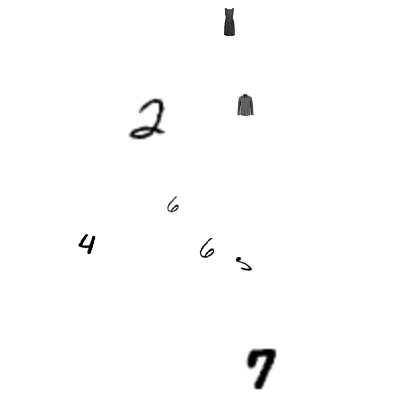0: (295, 349, 323, 377), (307, 88, 335, 116)
2: (13, 205, 125, 317), (128, 311, 212, 395)
3: (253, 49, 295, 91)
6: (39, 142, 95, 198)
9: (213, 57, 235, 79)
Dress: (51, 307, 65, 321)
Sandal: (195, 125, 307, 237)
Sneaker: (104, 79, 160, 135)
